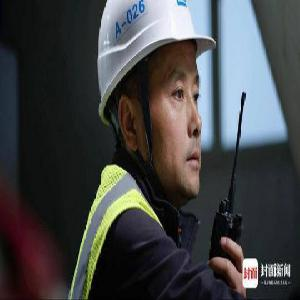white: (96, 2, 210, 205)
